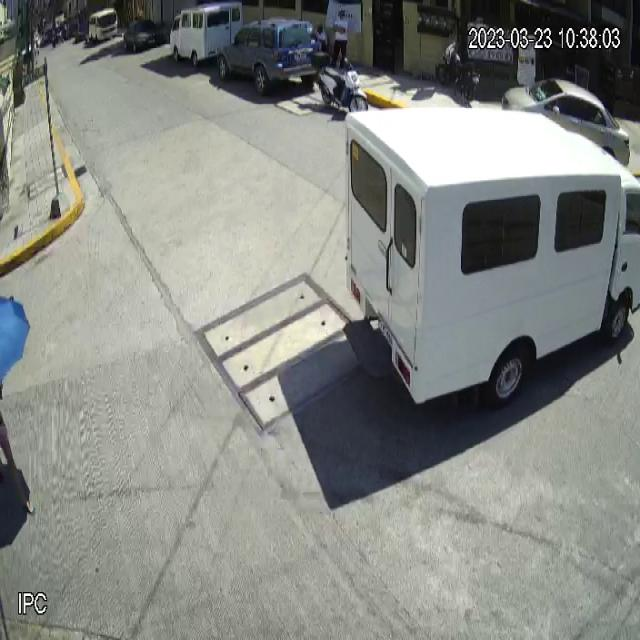Car: (217, 17, 323, 89)
Motorcycle: (310, 48, 368, 122)
Van: (342, 104, 640, 420), (170, 0, 243, 70)
